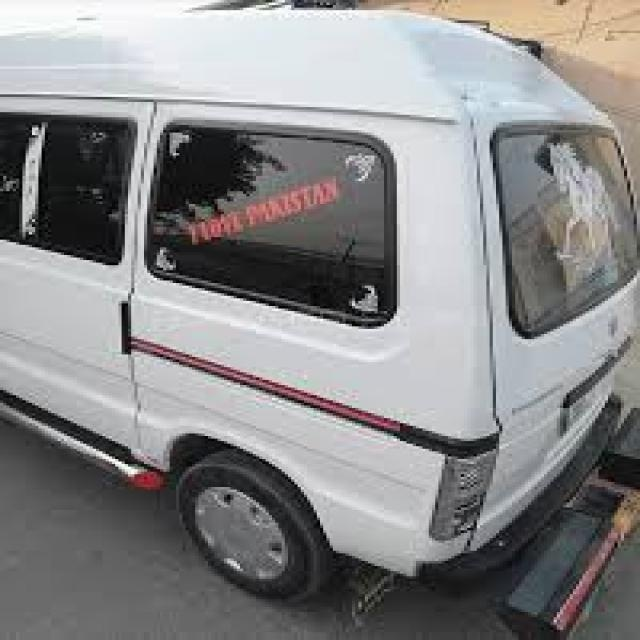Van: (0, 5, 637, 640)
